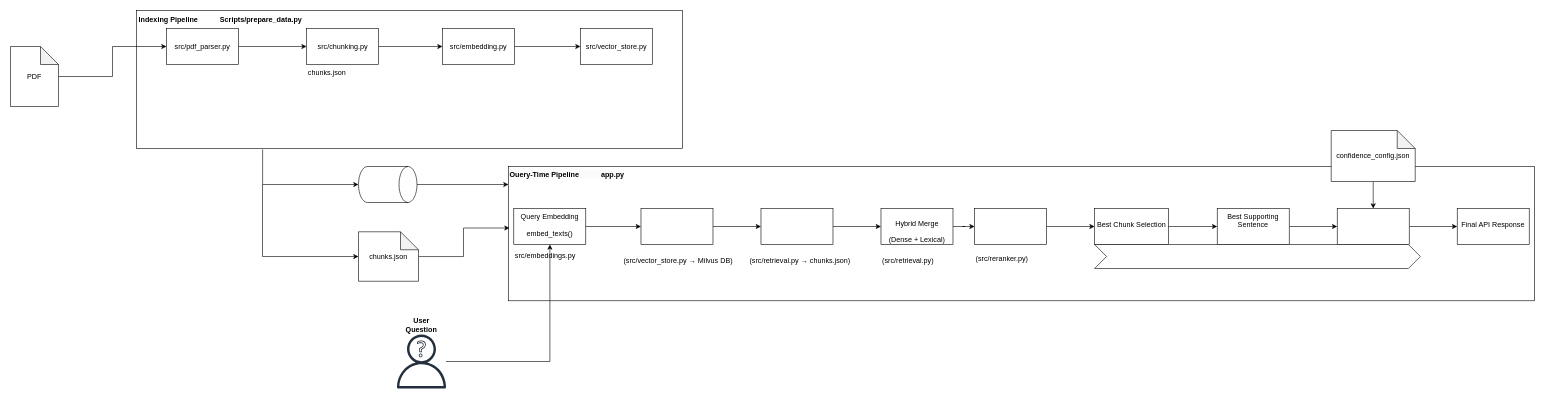
The diagram is 1545 pixels wide and 399 high, and some of its shapes have lost their labels. The box of each missing label's shape, as (x1, y1, x2, y2) in pixels:
Confidence / Abstain Check: (1337, 208, 1409, 244)
Dense Retrieva Vector Search (Milvus): (640, 208, 713, 244)
Lexical Retrieval: (760, 208, 833, 244)
LLM Support: (1094, 244, 1420, 268)
Milvus DB: (358, 166, 417, 202)
ReRanker: (974, 208, 1047, 244)
